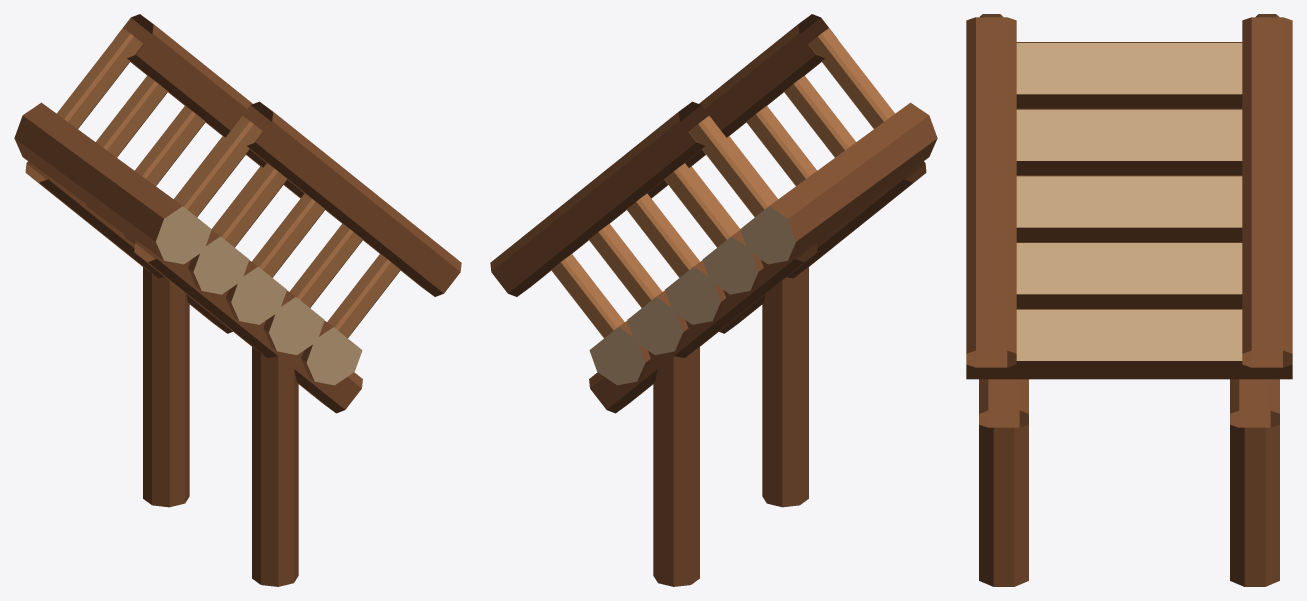
The model's file is Track_Bridge_Incline_Sharp_Supported.obj.
The picture shows the model from 3 angles, left to right: view 1: azimuth 30°, elevation 25°; view 2: azimuth 150°, elevation 25°; view 3: azimuth 270°, elevation 25°; orthographic projection. The views are drawn at different scales.
Parts seen in each view (by area): view 1: Bridge_Pier, Bridge_Rail_Support, Bridge_Rail, Log_Plank_Bark, Log_Plank_End, Bridge_Support_Beam; view 2: Bridge_Pier, Bridge_Rail_Support, Bridge_Rail, Log_Plank_Bark, Log_Plank_End, Bridge_Support_Beam; view 3: Log_Plank_Top, Bridge_Rail, Log_Plank_Bark, Bridge_Pier, Bridge_Support_Beam.
Boxes of the visible parts, box(x1,y1,x2,y2) form: Bridge_Pier: box(143, 267, 298, 586); Bridge_Rail_Support: box(57, 28, 400, 338); Bridge_Rail: box(114, 14, 461, 296); Log_Plank_Bark: box(14, 102, 332, 381); Log_Plank_End: box(156, 206, 362, 385); Bridge_Support_Beam: box(25, 161, 362, 413); Bridge_Pier: box(653, 267, 808, 586); Bridge_Rail_Support: box(551, 28, 894, 338); Bridge_Rail: box(490, 14, 837, 296); Log_Plank_Bark: box(619, 102, 937, 381); Log_Plank_End: box(589, 206, 795, 385); Bridge_Support_Beam: box(589, 161, 926, 413); Log_Plank_Top: box(1016, 43, 1242, 360); Bridge_Rail: box(966, 17, 1292, 367); Log_Plank_Bark: box(966, 42, 1292, 379); Bridge_Pier: box(979, 424, 1279, 586); Bridge_Support_Beam: box(979, 379, 1279, 427).
Size of the model in its own units: 1.64 by 2.42 by 1.3.
